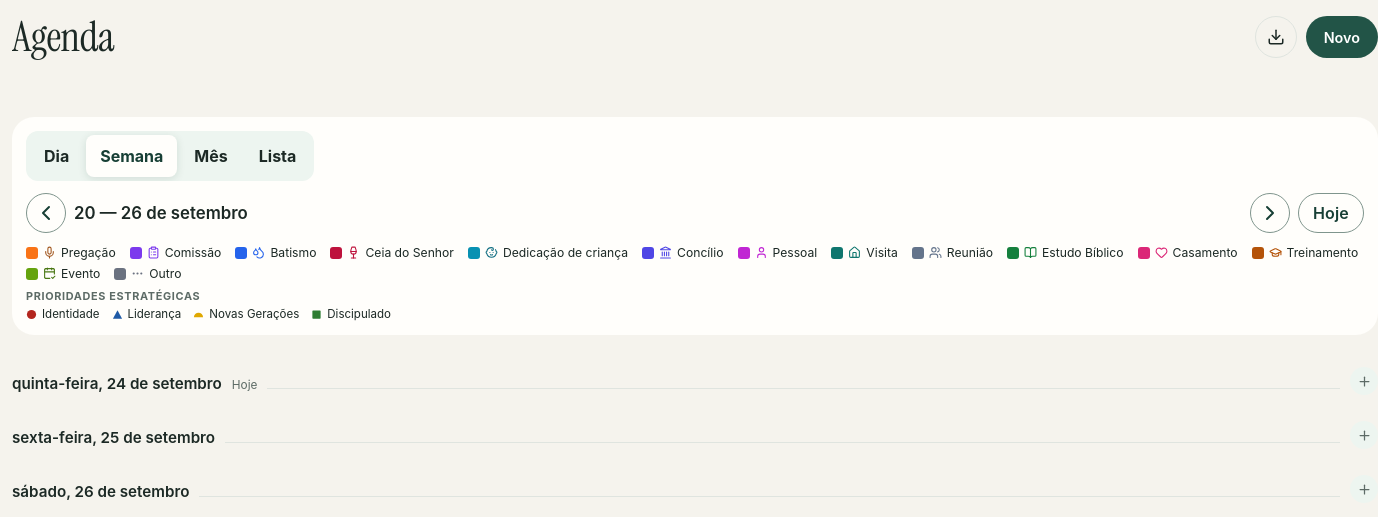
Test: lista do mês › mês vazio: mensagem simples e botão para criar
Click the tab "Lista": [278, 156] box [245, 135, 310, 177]
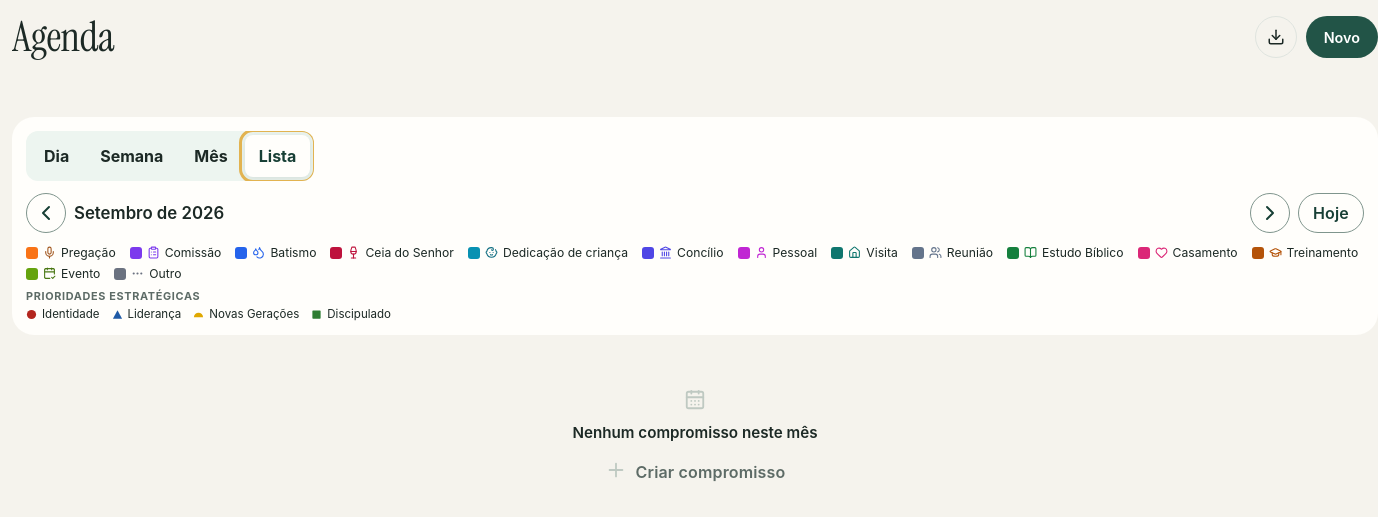
Now the text "Nenhum compromisso neste mês" is shown, box [572, 423, 818, 442]
